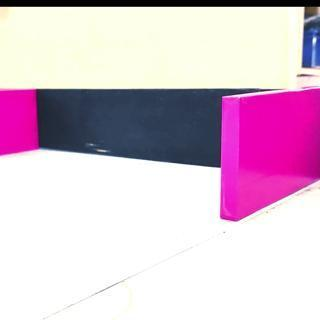xparking: (222, 94, 319, 208), (1, 91, 36, 160)
